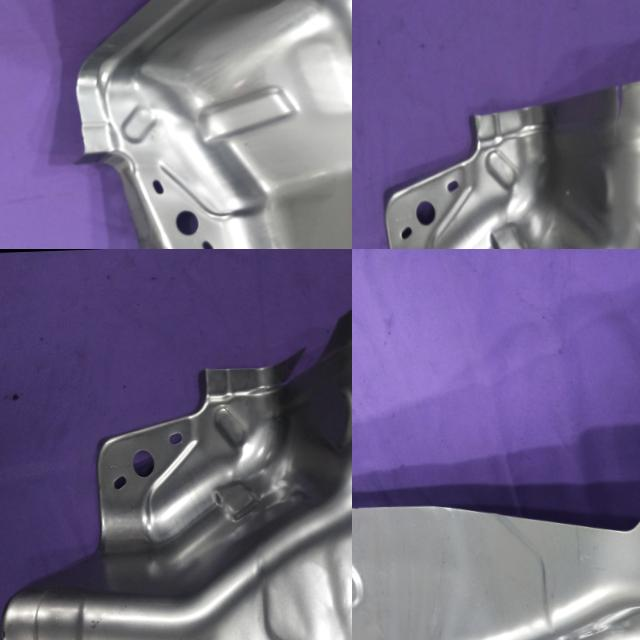Defect: (253, 319, 346, 391), (600, 65, 640, 148)
Healthy: (57, 0, 352, 249), (352, 472, 640, 640)
